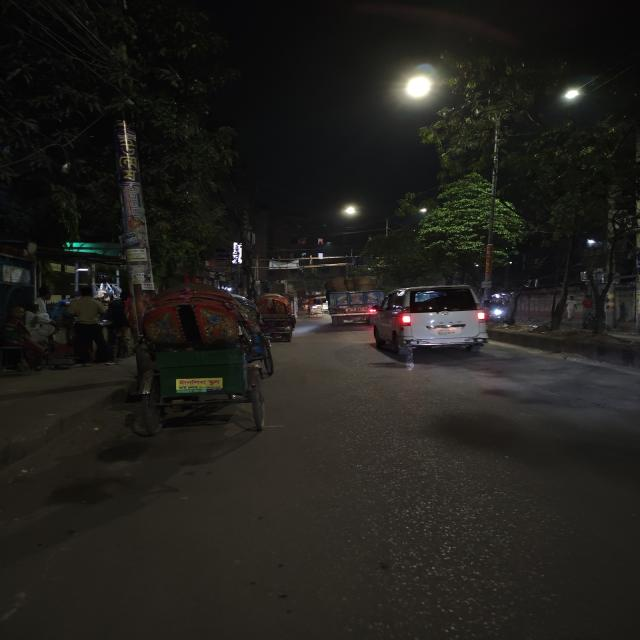car: (365, 282, 492, 361)
pedestrian: (66, 287, 108, 363)
rickshaw: (127, 285, 279, 435), (246, 290, 300, 344), (304, 294, 328, 318)
truck: (321, 288, 377, 328)
